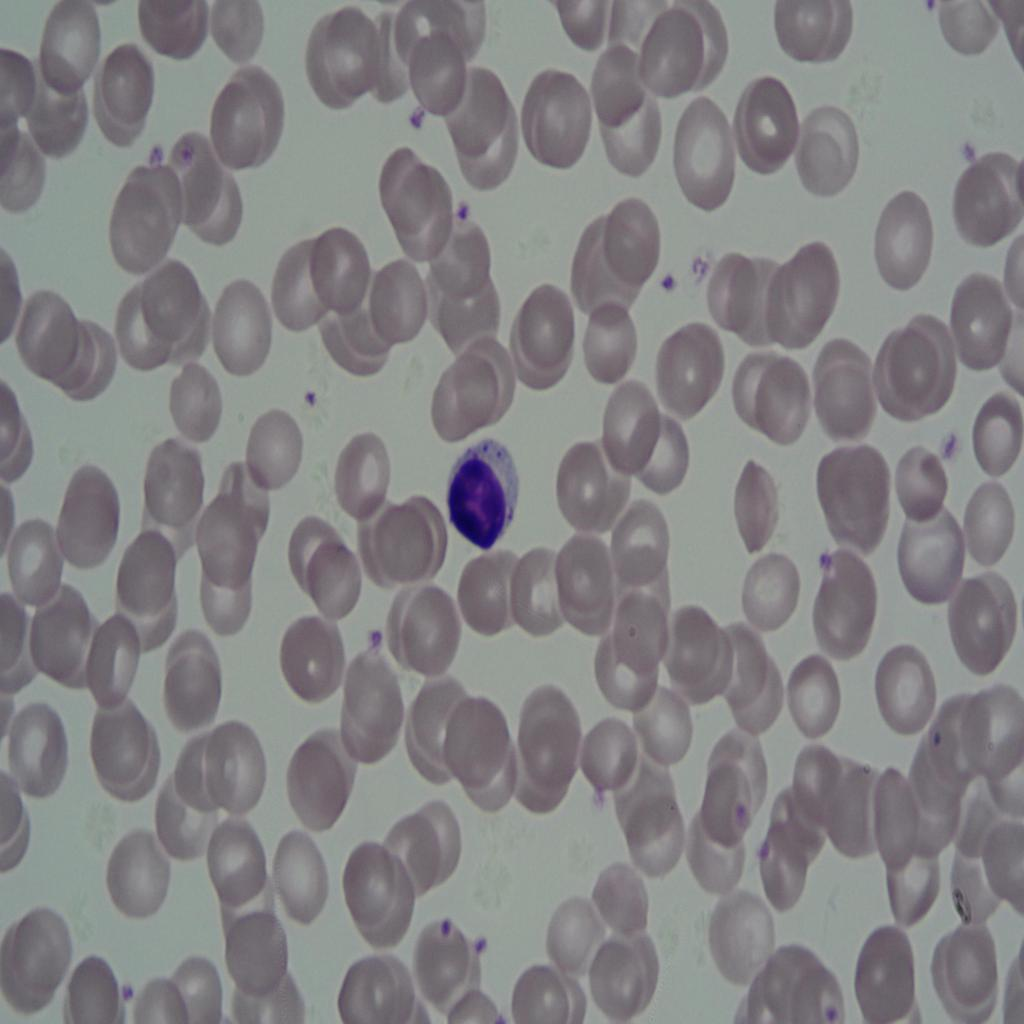Myeoblast: (446, 415, 526, 569)
Platelet: (919, 414, 965, 478), (290, 377, 335, 433), (448, 191, 482, 240), (403, 106, 431, 148), (146, 137, 168, 181), (814, 545, 839, 583), (363, 618, 384, 660), (433, 907, 453, 943), (473, 919, 491, 959), (660, 262, 676, 300)
